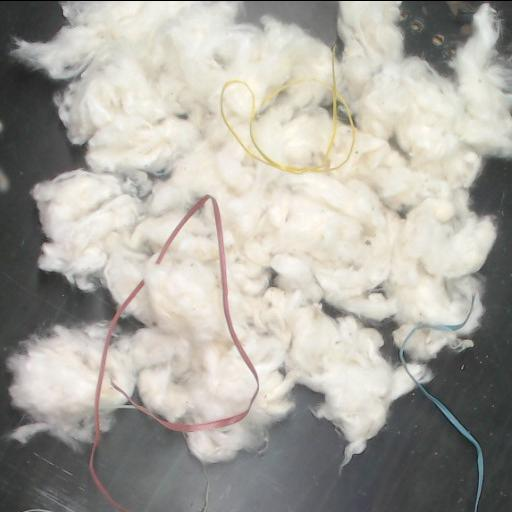conveyor belt: (0, 1, 114, 433), (97, 387, 476, 512), (427, 158, 511, 512), (0, 435, 116, 512), (401, 1, 482, 70), (240, 1, 336, 43)
cotton: (14, 1, 511, 464), (7, 322, 106, 447)
thread: (112, 195, 259, 431), (221, 47, 357, 173), (401, 349, 484, 512), (89, 279, 144, 512)
